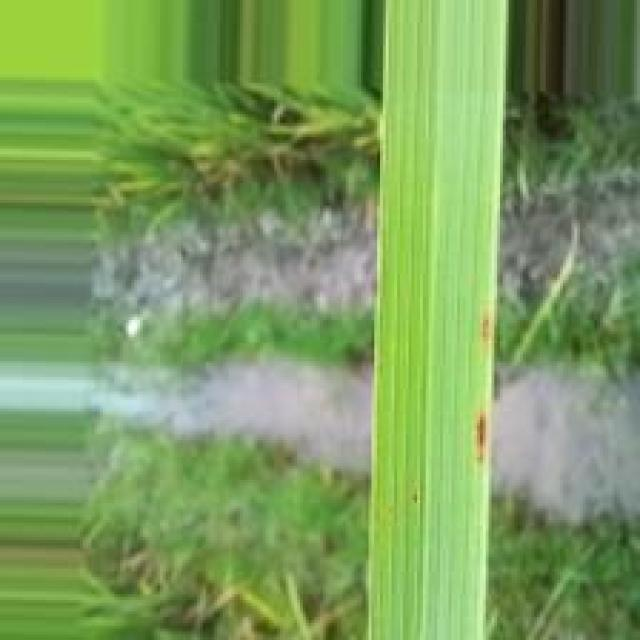Brown_Spot: (473, 416, 485, 461), (482, 305, 490, 346)
